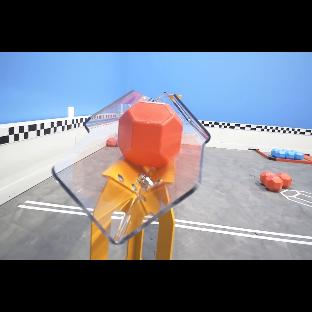V5_BLUE: (285, 151, 295, 159), (275, 150, 285, 158), (294, 152, 303, 160), (271, 149, 279, 156), (281, 149, 288, 153), (112, 136, 117, 141), (290, 150, 297, 153)
V5_RED: (118, 102, 183, 167), (264, 175, 283, 191), (276, 173, 292, 188), (260, 171, 275, 184), (106, 137, 117, 147), (114, 134, 118, 137)
